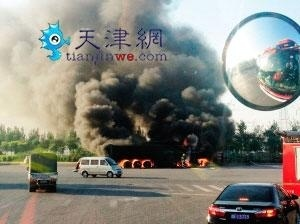fire: (115, 136, 216, 171), (117, 152, 157, 169)
